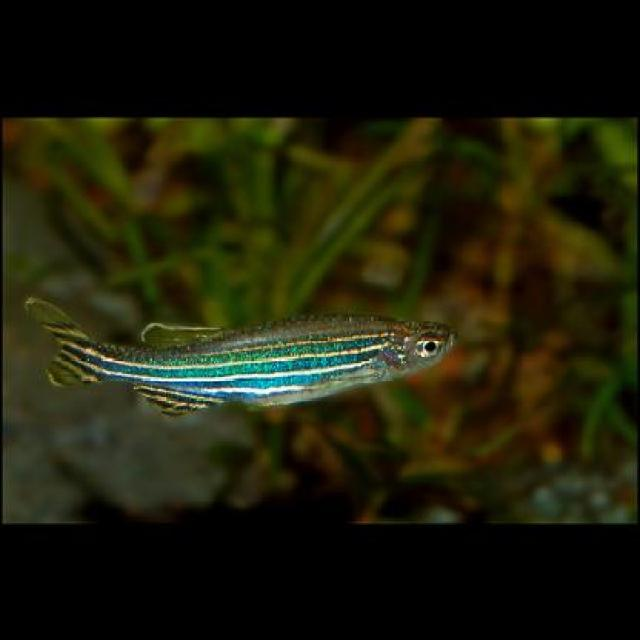ZebraFish: (23, 295, 460, 416)
